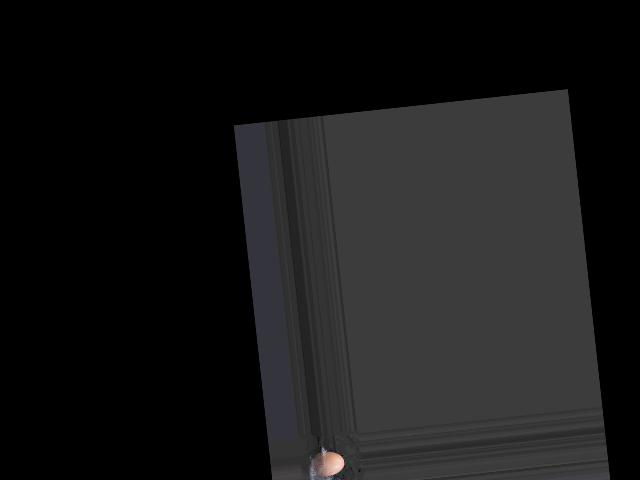egg: (311, 449, 345, 477)
